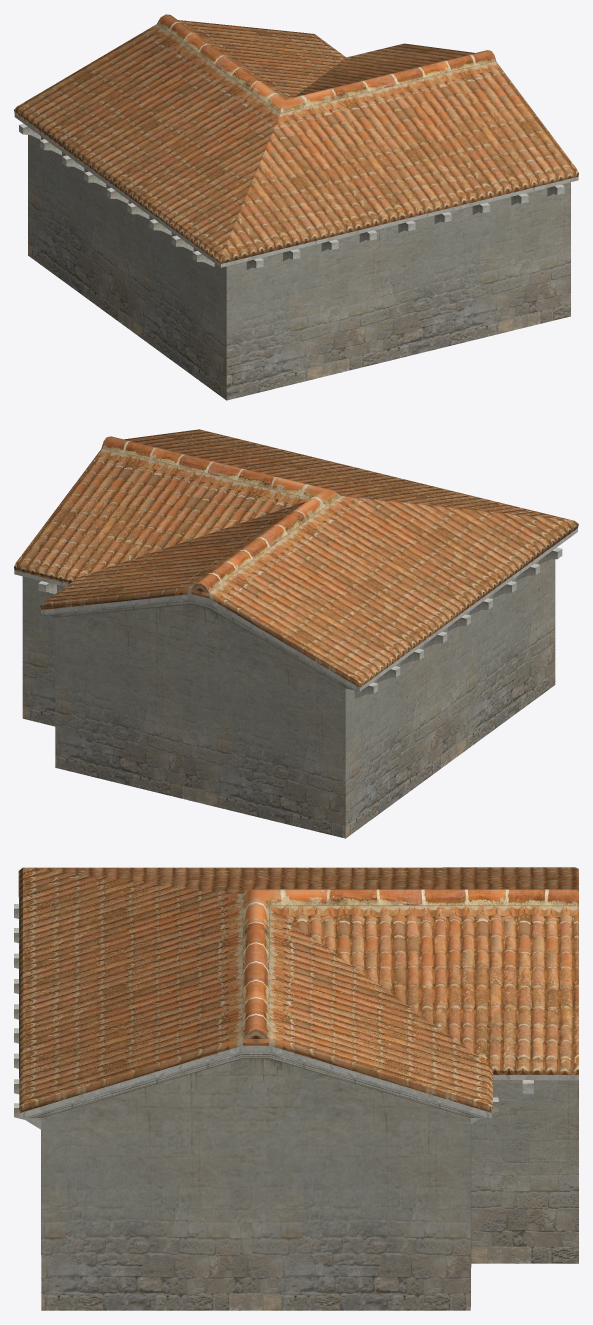
Rendered from bg_atm_aborder_abbeystructure04a_sm_jjy.FBX.
The picture shows the model from 3 angles, top to bottom: view 1: azimuth 30°, elevation 25°; view 2: azimuth 150°, elevation 25°; view 3: azimuth 270°, elevation 25°; orthographic projection. The views are drawn at different scales.
Parts seen in each view (by area): view 1: bg_atm_aborder_abbeystructure04a_sm_jjy; view 2: bg_atm_aborder_abbeystructure04a_sm_jjy; view 3: bg_atm_aborder_abbeystructure04a_sm_jjy.
Part boxes in pixels (x1=…): bg_atm_aborder_abbeystructure04a_sm_jjy: x1=14, y1=14, x2=578, y2=400; bg_atm_aborder_abbeystructure04a_sm_jjy: x1=14, y1=429, x2=578, y2=838; bg_atm_aborder_abbeystructure04a_sm_jjy: x1=14, y1=867, x2=578, y2=1310.
Bounding box in the file's own units: 698 × 384 × 695.
